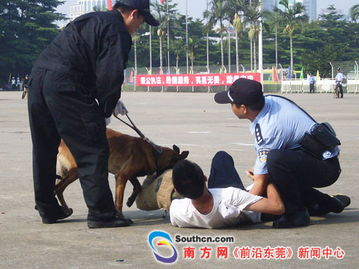fall: (163, 146, 279, 231)
